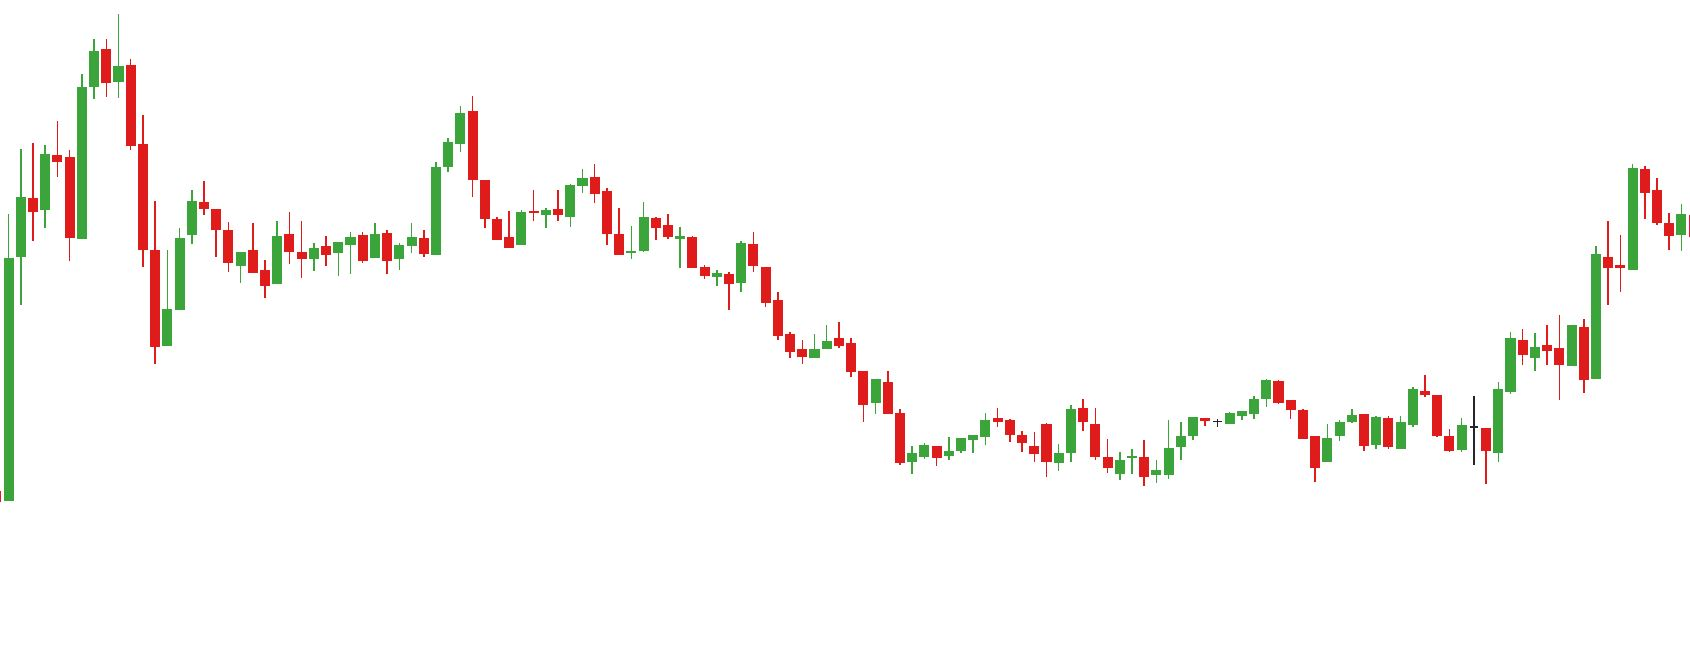buy: (14, 166, 186, 362)
